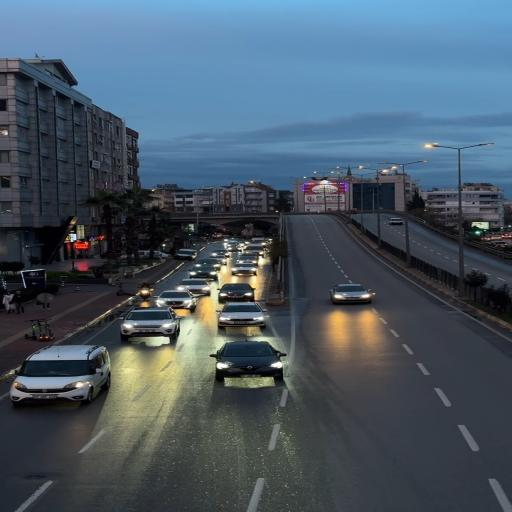bike: (25, 319, 54, 340)
car: (202, 344, 336, 389), (10, 345, 110, 405), (28, 343, 116, 409), (210, 341, 286, 381), (119, 307, 181, 341), (217, 302, 268, 328), (154, 290, 197, 312), (330, 284, 374, 303), (218, 283, 254, 302), (177, 279, 211, 295), (190, 265, 219, 280), (231, 263, 257, 275), (195, 258, 221, 268), (244, 244, 264, 257), (174, 249, 197, 260), (237, 254, 258, 264), (208, 255, 226, 265), (487, 240, 509, 248), (212, 249, 230, 257), (251, 237, 268, 245), (224, 238, 243, 245), (227, 244, 243, 252), (389, 218, 403, 225), (349, 209, 357, 214)
lights: (64, 381, 90, 388), (13, 382, 27, 389), (216, 362, 228, 369), (162, 322, 175, 328), (424, 143, 439, 148), (271, 362, 283, 368), (220, 316, 231, 321), (253, 316, 263, 321), (123, 324, 133, 329), (334, 294, 344, 298), (361, 294, 371, 298), (202, 286, 210, 290), (178, 286, 185, 290), (190, 271, 197, 275), (244, 293, 253, 296), (220, 293, 227, 296), (210, 272, 216, 275)
